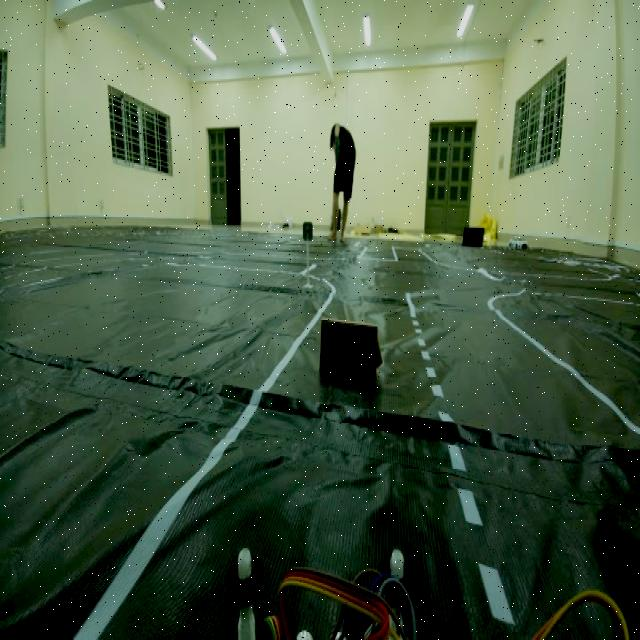roadblock: (313, 310, 384, 392)
